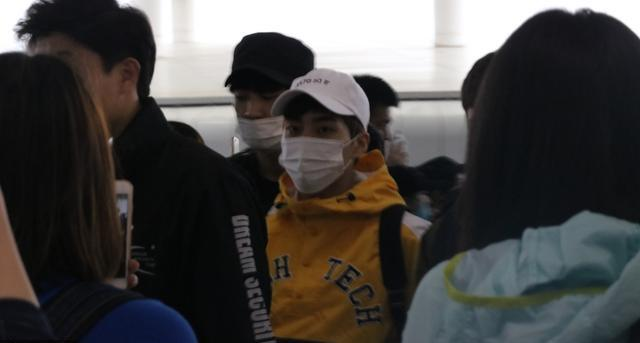OK: (280, 112, 351, 183)
WRONG: (231, 82, 292, 143)
